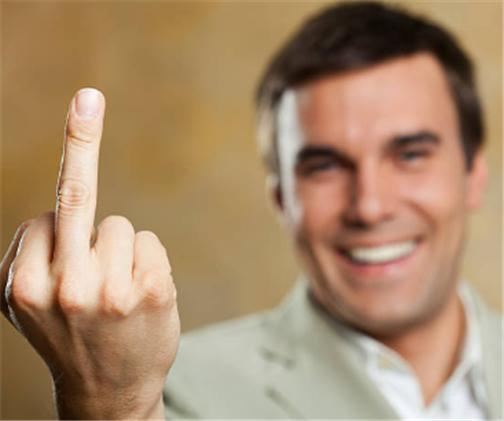insulting_gesture: (0, 89, 182, 421)
